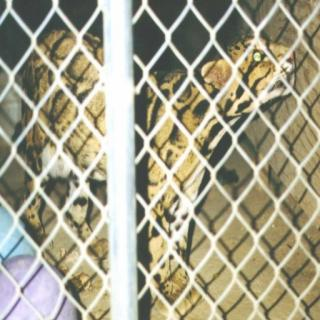Leopard: (27, 35, 295, 225)
